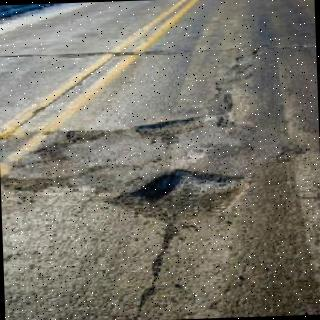pothole: (113, 170, 249, 250)
